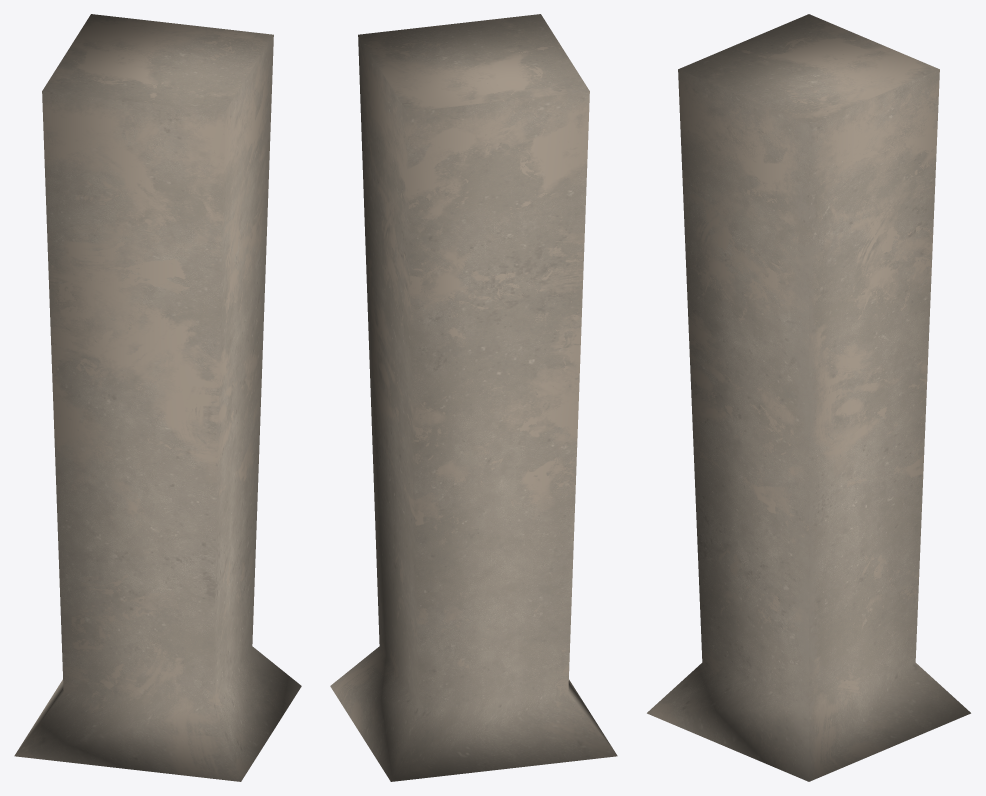
Rendered from candle_lowpoly_collider.fbx.
3 renders of one model, left to right at view 1: azimuth 30°, elevation 25°; view 2: azimuth 150°, elevation 25°; view 3: azimuth 270°, elevation 25°, orthographic. The views are drawn at different scales.
Parts seen in each view (by area): view 1: candle.lowpoly.collider; view 2: candle.lowpoly.collider; view 3: candle.lowpoly.collider.
Part boxes in pixels (bbox=[...]): candle.lowpoly.collider: bbox=[14, 14, 301, 781]; candle.lowpoly.collider: bbox=[330, 14, 617, 781]; candle.lowpoly.collider: bbox=[647, 14, 970, 781].
Bounding box in the file's own units: 3.88 × 8.48 × 3.88.
